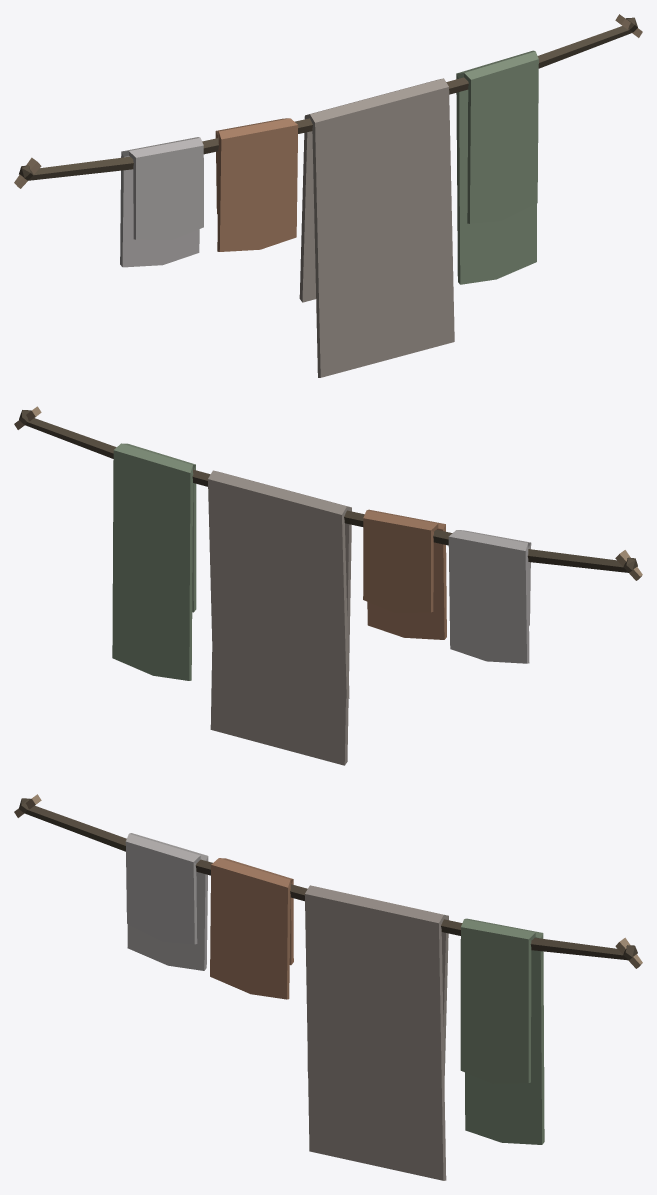
File: SM_Prop_Washingline_Small_03.glb
3 views of the same model, one above another, from view 1: azimuth 30°, elevation 25°; view 2: azimuth 150°, elevation 25°; view 3: azimuth 330°, elevation 25° (orthographic).
Visible parts, largest first — view 1: SM_Prop_Washingline_Small_03; view 2: SM_Prop_Washingline_Small_03; view 3: SM_Prop_Washingline_Small_03.
Part boxes in pixels (x1,y1,x2,y2): SM_Prop_Washingline_Small_03: [14, 14, 642, 377]; SM_Prop_Washingline_Small_03: [14, 406, 642, 765]; SM_Prop_Washingline_Small_03: [14, 794, 642, 1180].
Size of the model in its own units: 3.96 by 1.72 by 0.1191.
1 material, 1 textured.
